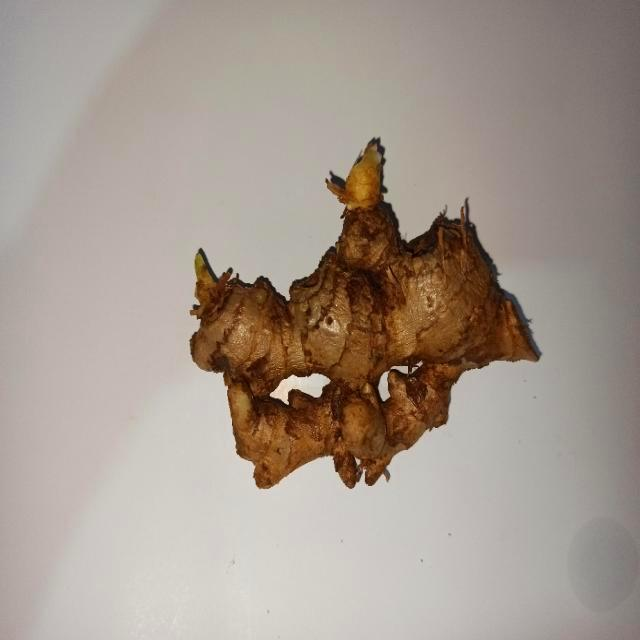ginger: (191, 135, 542, 492)
